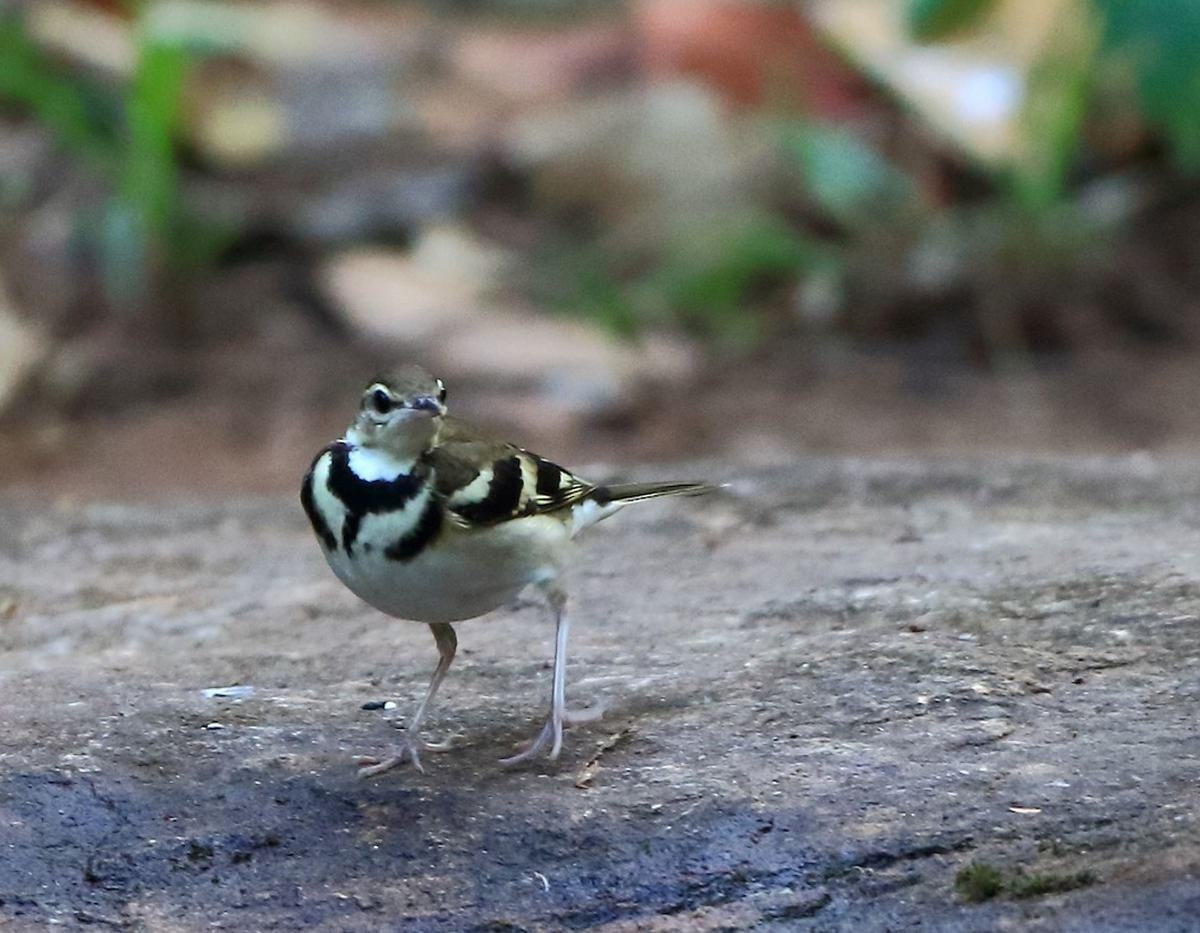wagtail: (298, 355, 652, 732)
